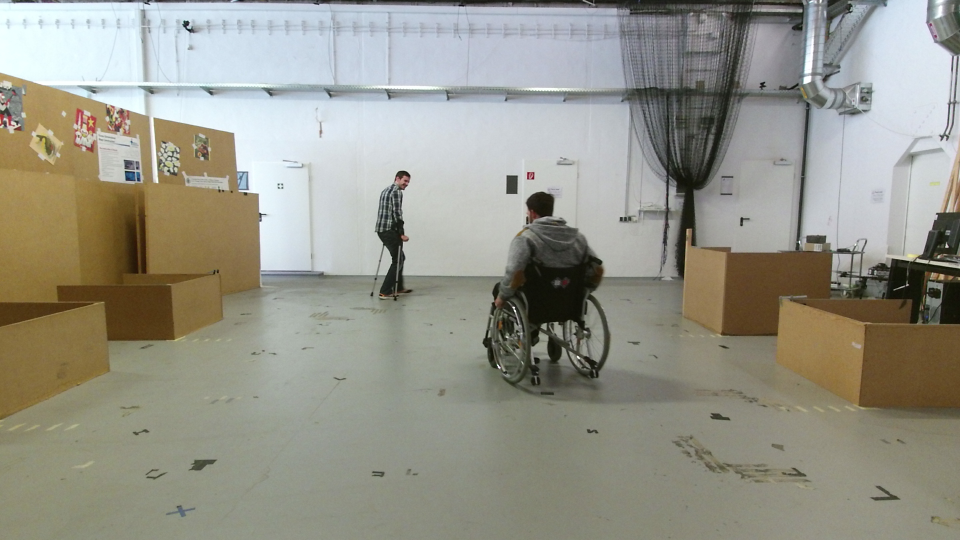crutches: (358, 161, 420, 316)
wheelchair: (473, 182, 620, 407)
